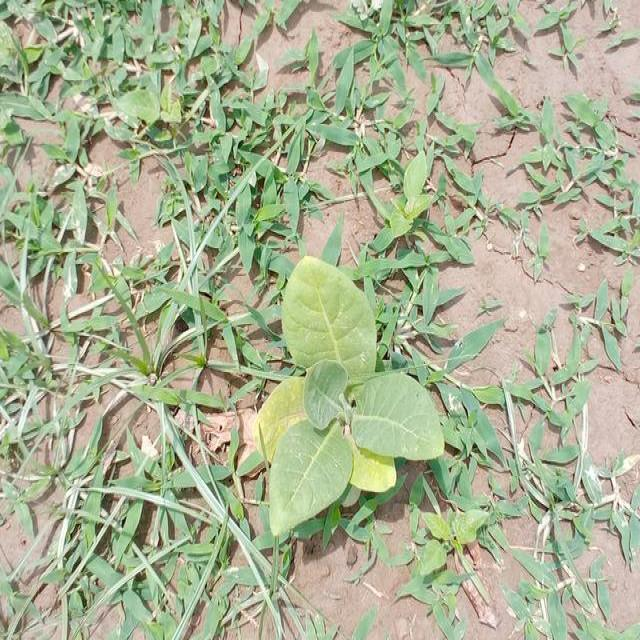crop: (263, 260, 443, 523)
